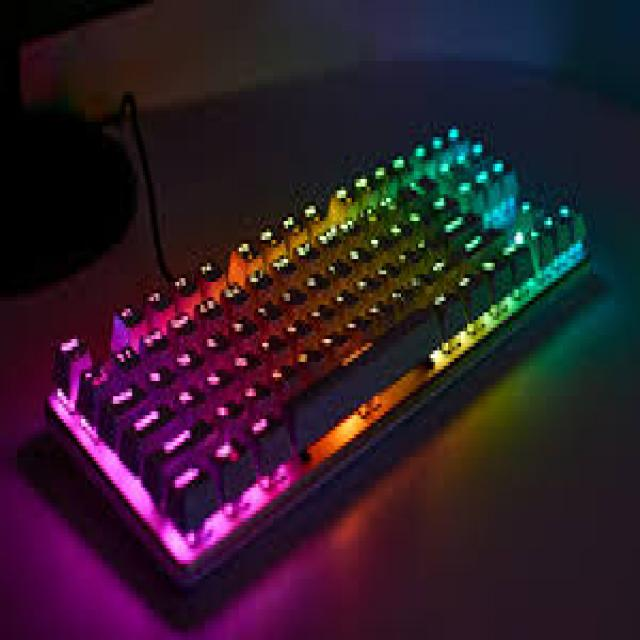others: (38, 114, 589, 587)
